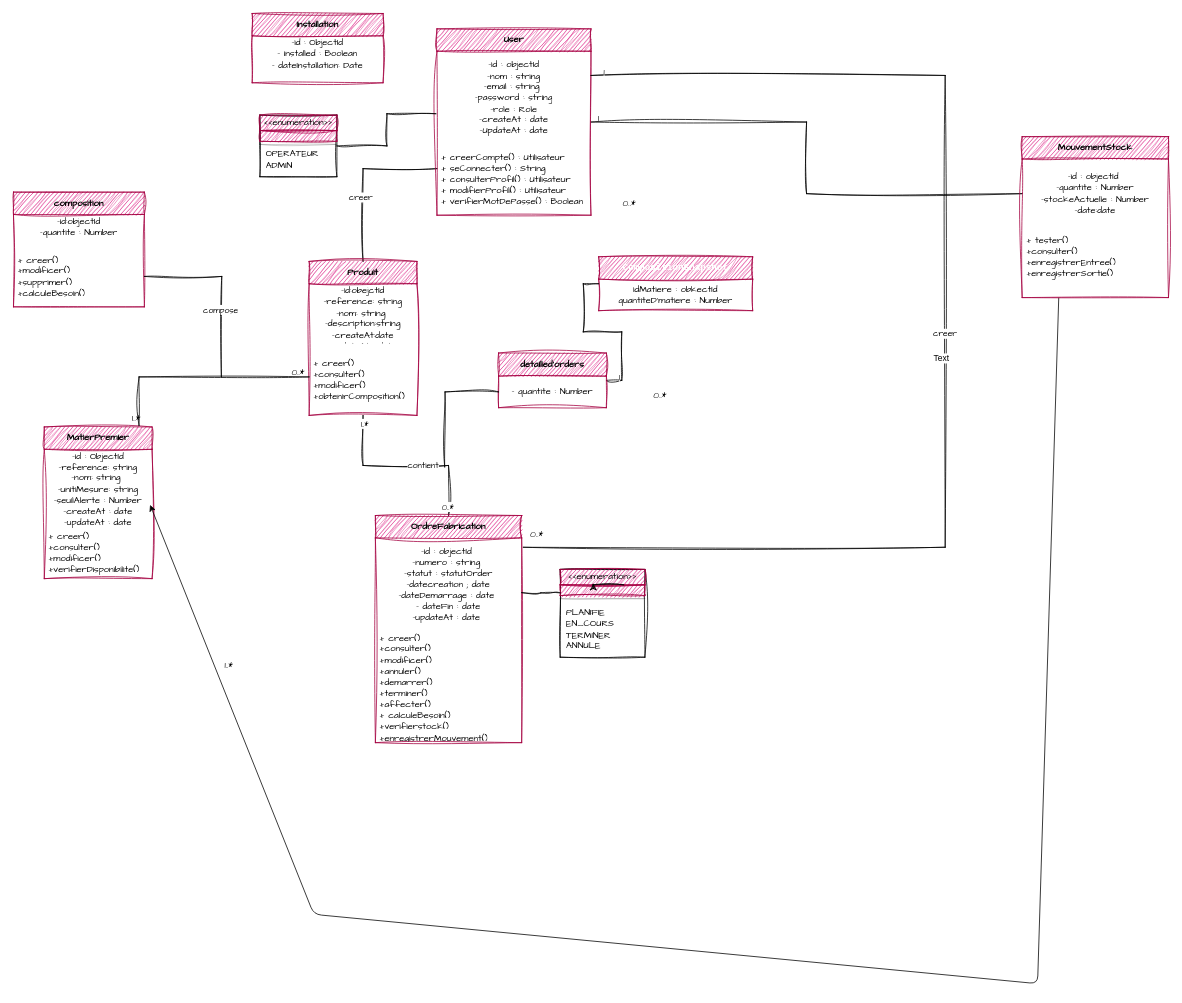
Some shapes in this 1182 by 1003 pixel diagram are drawn without their labels. The centre of each missing label's shape, as x and y in pixels:
"Role" belongs at (298,135).
"statutOrder" belongs at (602,590).
